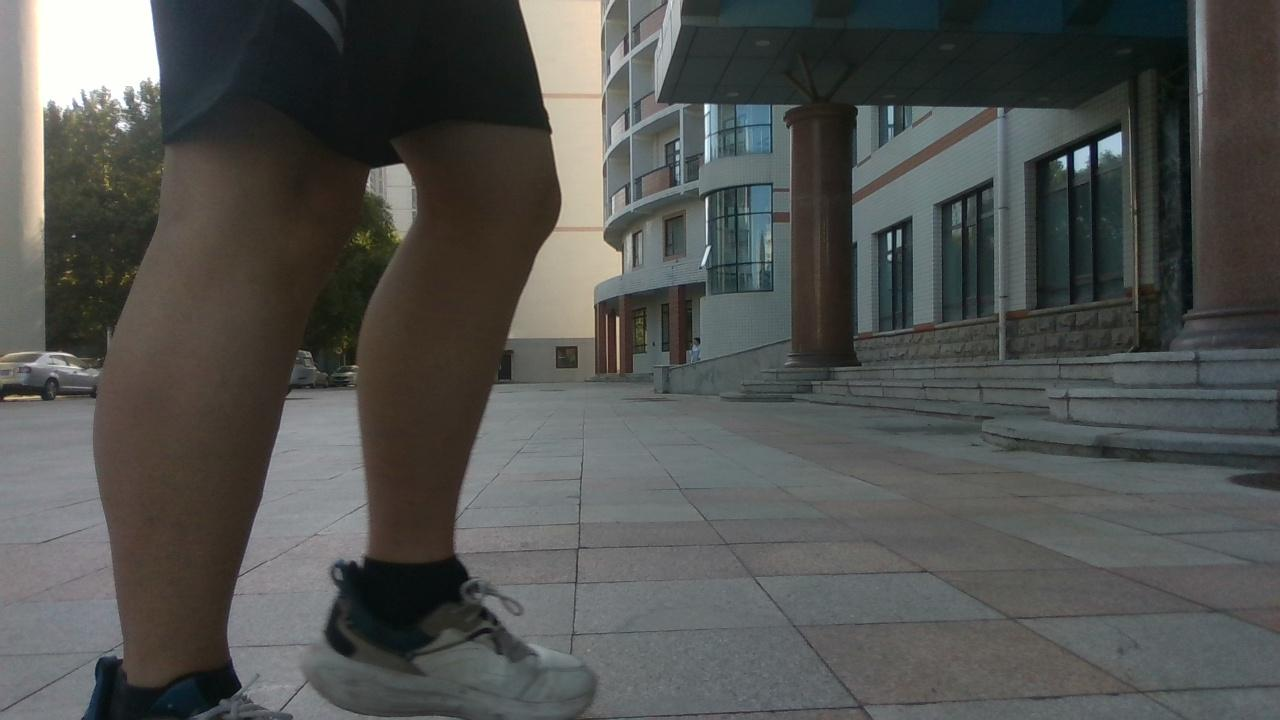person: (85, 0, 595, 716)
